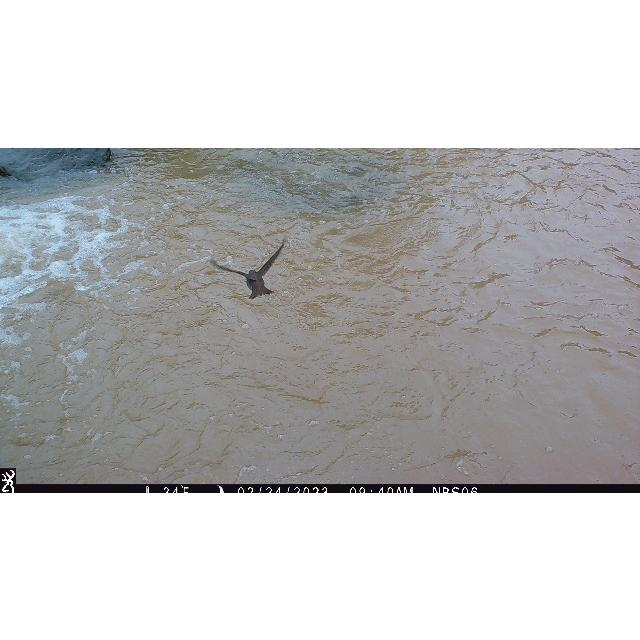animals: (210, 237, 290, 299)
